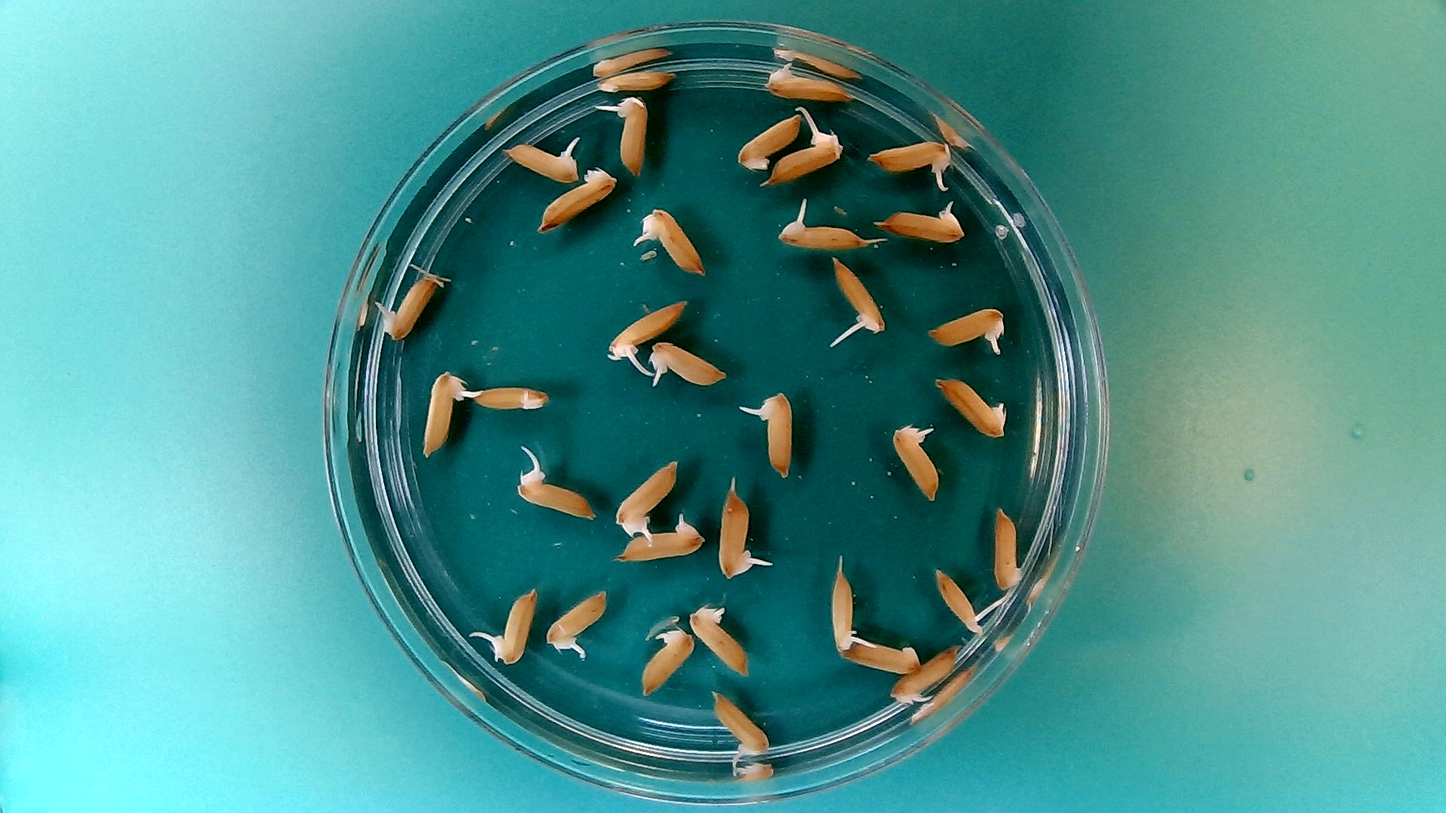no: (535, 169, 618, 233), (687, 599, 753, 678), (936, 373, 1008, 439), (732, 108, 804, 172), (990, 501, 1027, 592), (838, 637, 923, 675), (471, 380, 553, 415), (596, 69, 682, 93)
yes: (606, 294, 690, 361), (375, 263, 443, 343), (419, 364, 473, 458), (618, 454, 682, 531), (641, 206, 709, 278), (924, 301, 1010, 354), (889, 642, 960, 705), (518, 467, 598, 521), (617, 516, 708, 563), (645, 338, 729, 388), (875, 198, 968, 243), (834, 260, 890, 334), (711, 688, 770, 757), (765, 129, 837, 185), (715, 480, 754, 577), (547, 591, 612, 649), (892, 425, 939, 504), (933, 565, 985, 635), (504, 139, 582, 182), (640, 630, 695, 690), (758, 392, 795, 477), (869, 139, 950, 177), (615, 97, 651, 179), (493, 593, 536, 661), (761, 66, 842, 102), (827, 568, 859, 654), (774, 220, 861, 251)
